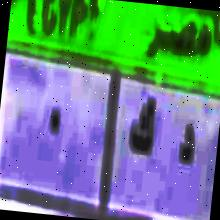0: (39, 89, 68, 149)
daal: (168, 116, 198, 178)
kaaf: (126, 92, 160, 165)
